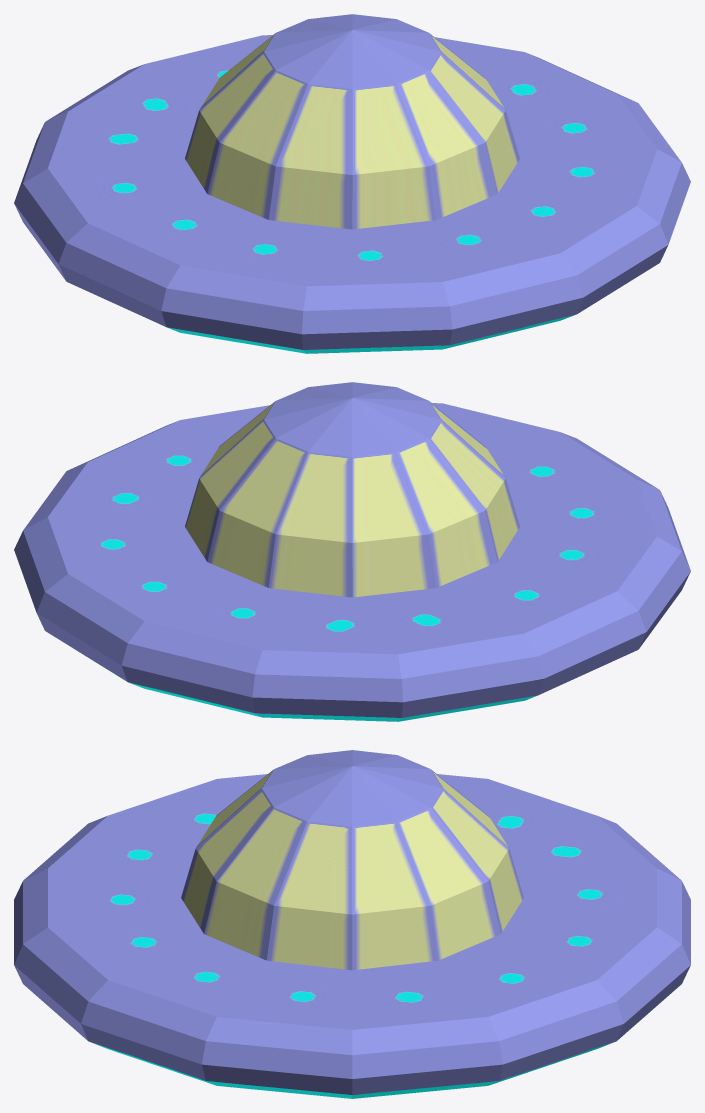
Rendered from ovni.obj.
The picture shows the model from 3 angles, top to bottom: view 1: azimuth 30°, elevation 25°; view 2: azimuth 150°, elevation 25°; view 3: azimuth 270°, elevation 25°; orthographic projection. The views are drawn at different scales.
Visible parts, largest first — view 1: ovini; view 2: ovini; view 3: ovini.
Part boxes in pixels (box(x1,y1,x2,y2)): ovini: box(14, 14, 690, 353); ovini: box(14, 382, 690, 721); ovini: box(14, 750, 690, 1098).
Bounding box in the file's own units: 6.16 × 2.15 × 6.01.
1 material, 1 textured.
